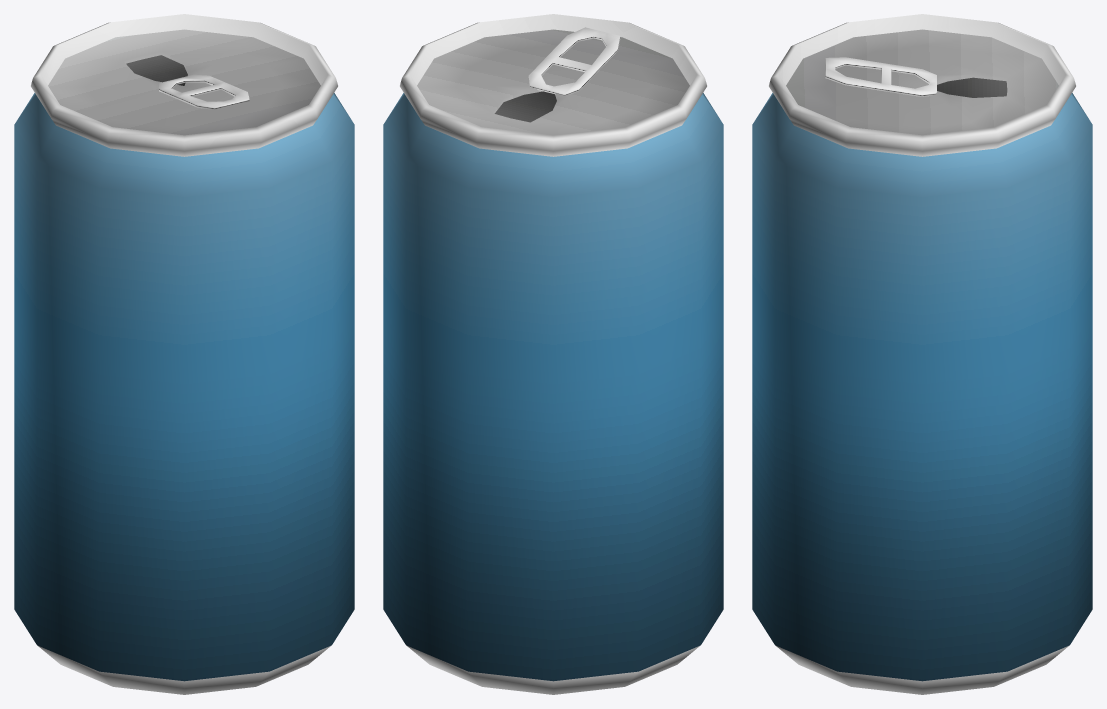
File: SM_Can_blue.fbx
The picture shows the model from 3 angles, left to right: view 1: azimuth 30°, elevation 25°; view 2: azimuth 150°, elevation 25°; view 3: azimuth 270°, elevation 25°; orthographic projection.
Visible parts, largest first — view 1: Can_blue; view 2: Can_blue; view 3: Can_blue.
Boxes of the visible parts, <box> form: Can_blue: <box>14,14,354,694</box>; Can_blue: <box>383,14,723,694</box>; Can_blue: <box>752,14,1092,694</box>.
Size of the model in its own units: 14.04 by 25.84 by 14.04.
